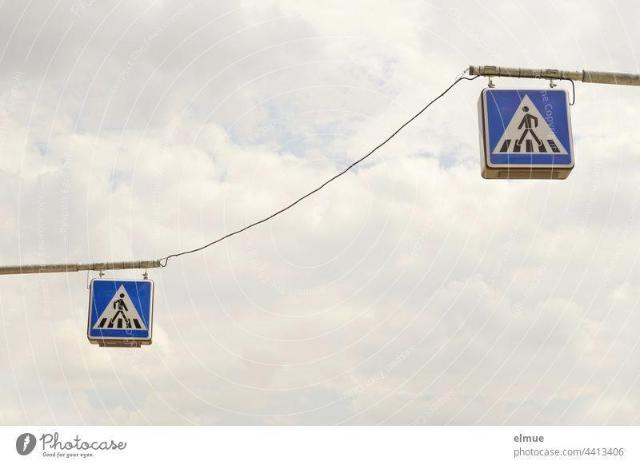crosswalk-sign: (479, 88, 576, 181), (88, 279, 155, 347)
